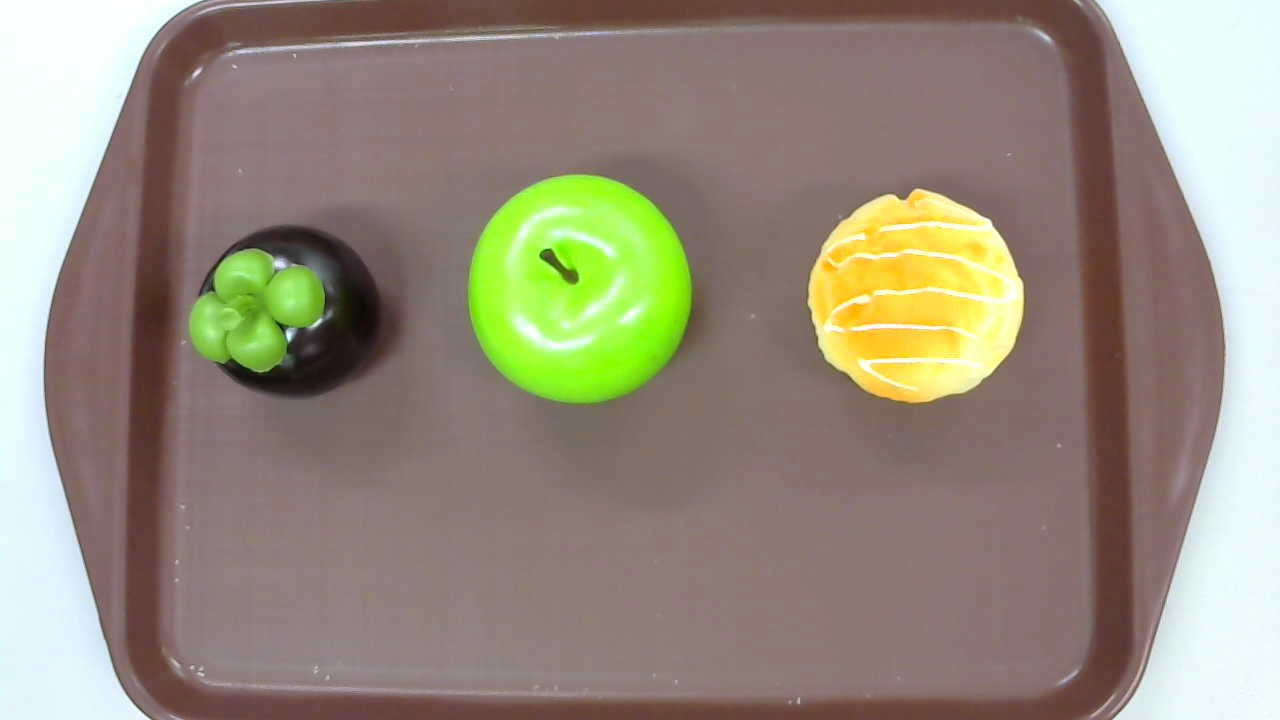cupcake: (808, 189, 1024, 406)
green apple: (467, 173, 695, 404)
mangosteen: (188, 222, 385, 400)
